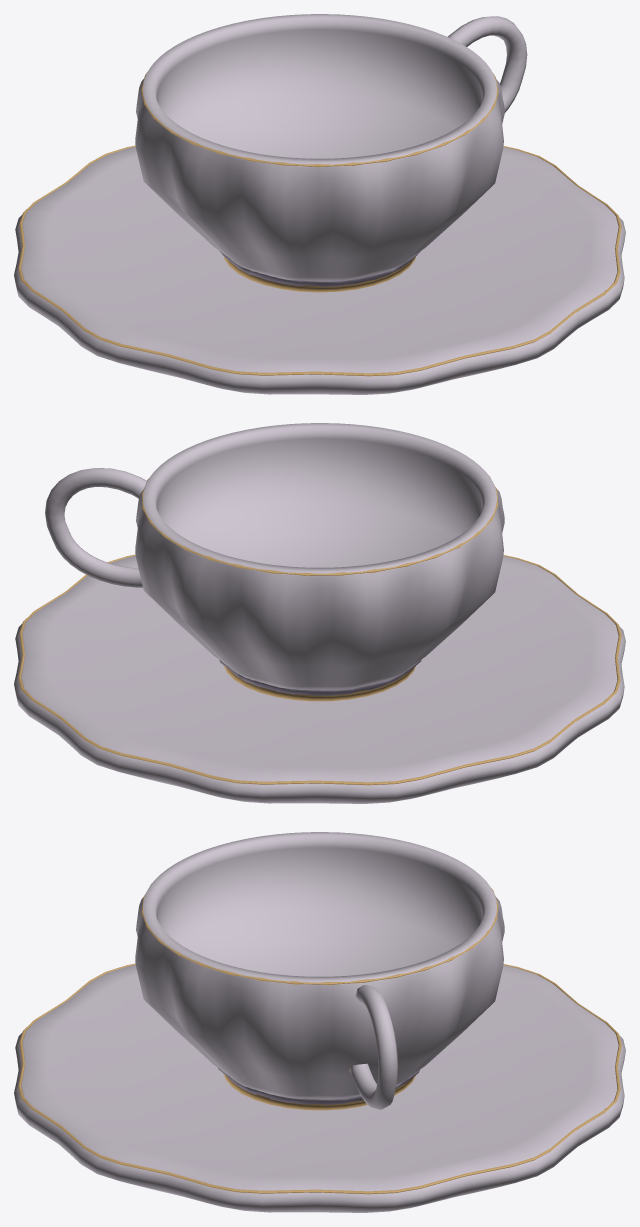
The model's file is kart.body.petal.glb.
3 views of the same model, one above another, from view 1: azimuth 30°, elevation 25°; view 2: azimuth 150°, elevation 25°; view 3: azimuth 270°, elevation 25° (orthographic).
Parts seen in each view (by area): view 1: emi_vehicle_petal; view 2: emi_vehicle_petal; view 3: emi_vehicle_petal.
Part boxes in pixels (left/top/right/bottom): emi_vehicle_petal: left=14, top=14, right=625, bottom=394; emi_vehicle_petal: left=14, top=423, right=625, bottom=803; emi_vehicle_petal: left=14, top=832, right=625, bottom=1212.
Bounding box in the file's own units: 0.48 × 0.1744 × 0.48.
